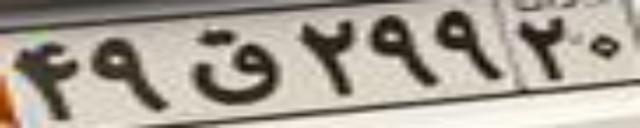0: (582, 31, 623, 60)
2: (294, 18, 357, 96), (513, 12, 566, 79)
4: (13, 41, 80, 121)
9: (88, 34, 166, 112), (367, 12, 438, 88), (430, 7, 504, 78)
ghaf: (179, 27, 283, 106)
